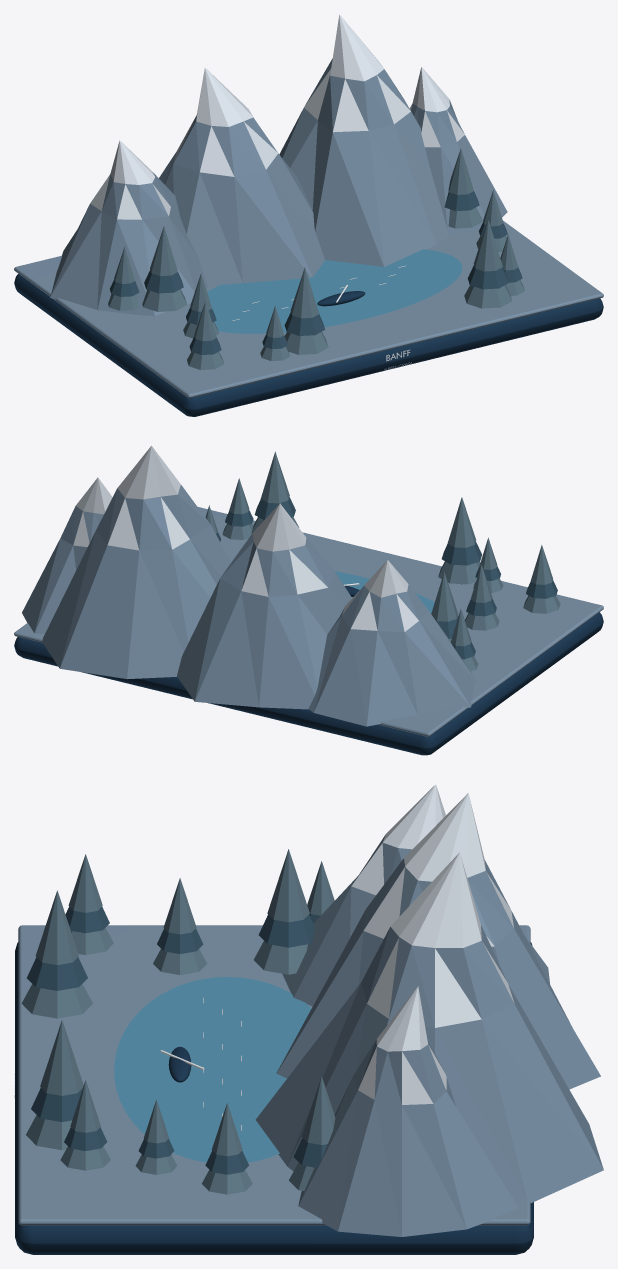
Rendered from banff.glb.
The picture shows the model from 3 angles, top to bottom: view 1: azimuth 30°, elevation 25°; view 2: azimuth 150°, elevation 25°; view 3: azimuth 270°, elevation 25°; orthographic projection. The views are drawn at different scales.
Visible parts, largest first — view 1: Rocky Mountain ridge.002, Ground, Rocky Mountain ridge.001, Rocky Mountain ridge, Floating terrain, Glacial lake, Rocky Mountain ridge.003, Alpine fir.030, Alpine fir.032, Alpine fir.017, Alpine fir.008, Alpine fir.015 (+7 smaller); view 2: Rocky Mountain ridge.002, Rocky Mountain ridge.001, Rocky Mountain ridge, Ground, Floating terrain, Rocky Mountain ridge.003, Alpine fir.032, Alpine fir.017, Alpine fir.008, Alpine fir.015, Alpine fir.016, Alpine fir (+7 smaller); view 3: Rocky Mountain ridge.002, Ground, Rocky Mountain ridge.003, Glacial lake, Rocky Mountain ridge.001, Floating terrain, Rocky Mountain ridge, Alpine fir.032, Alpine fir.015, Alpine fir.017, Alpine fir.008, Alpine fir.016 (+22 smaller).
Part boxes in pixels (x1,y1,x2,y2): Rocky Mountain ridge.002: (279,14,449,266); Ground: (14,220,603,398); Rocky Mountain ridge.001: (159,68,324,286); Rocky Mountain ridge: (50,140,208,315); Floating terrain: (14,274,603,416); Glacial lake: (188,249,462,333); Rocky Mountain ridge.003: (409,67,507,235); Alpine fir.030: (464,285,512,308); Alpine fir.032: (473,220,502,271); Alpine fir.017: (290,267,319,318); Alpine fir.008: (150,226,177,276); Alpine fir.015: (285,332,328,354); Rocky Mountain ridge.002: (42,445,230,679); Rocky Mountain ridge.001: (177,503,351,709); Rocky Mountain ridge: (308,560,475,726); Ground: (14,507,603,736); Floating terrain: (14,612,603,755); Rocky Mountain ridge.003: (22,477,112,633); Alpine fir.032: (260,451,289,503); Alpine fir.017: (447,497,476,547); Alpine fir.008: (431,572,458,621); Alpine fir.015: (438,561,480,584); Alpine fir.016: (441,542,481,565); Alpine fir: (523,595,560,613); Rocky Mountain ridge.002: (255,852,603,1202); Ground: (18,925,530,1225); Rocky Mountain ridge.003: (298,986,518,1236); Glacial lake: (114,977,311,1162); Rocky Mountain ridge.001: (276,793,600,1089); Floating terrain: (15,942,533,1254); Rocky Mountain ridge: (282,784,549,1006); Alpine fir.032: (40,1020,83,1095); Alpine fir.015: (21,984,92,1018); Alpine fir.017: (35,890,78,964); Alpine fir.008: (267,849,309,922); Alpine fir.016: (27,957,87,990).
Bounding box in the file's own units: 15.67 × 7.62 × 12.5.
